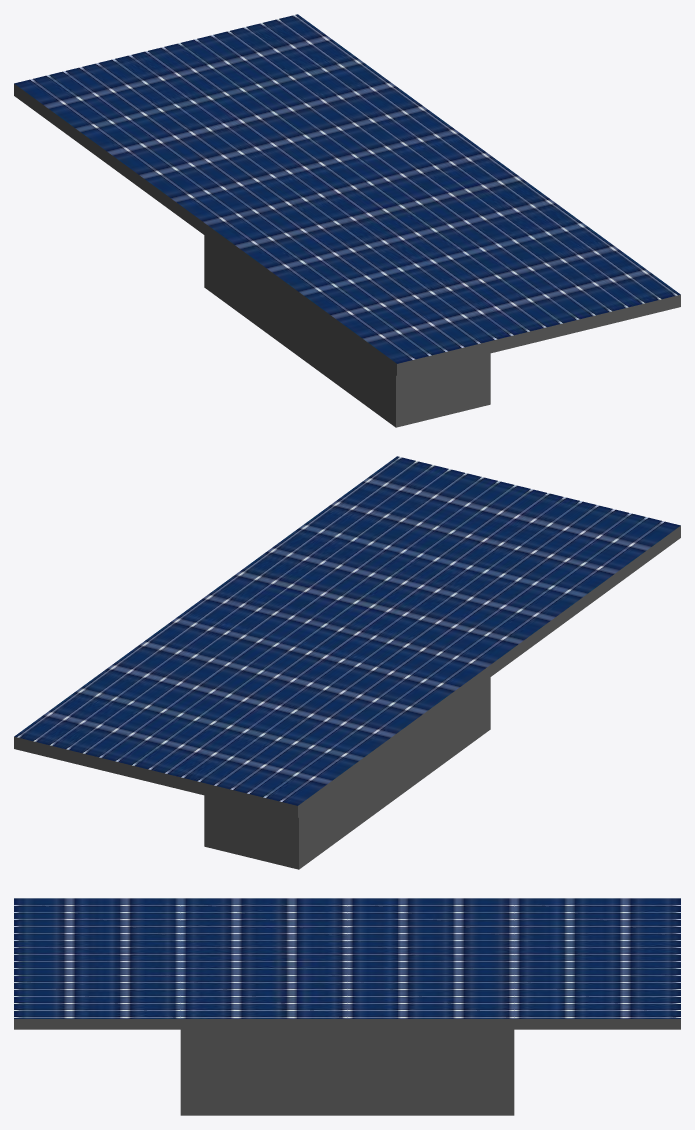
The model's file is solarPanel.fbx.
3 views of the same model, one above another, from view 1: azimuth 30°, elevation 25°; view 2: azimuth 150°, elevation 25°; view 3: azimuth 270°, elevation 25° (orthographic). The views are drawn at different scales.
Parts seen in each view (by area): view 1: Cube; view 2: Cube; view 3: Cube.
Part boxes in pixels (x1,y1,x2,y2): Cube: [14, 14, 680, 427]; Cube: [14, 456, 680, 869]; Cube: [14, 898, 680, 1115].
Size of the model in its own units: 114 by 60.39 by 267.
Materials: 2 (1 with a texture image).
